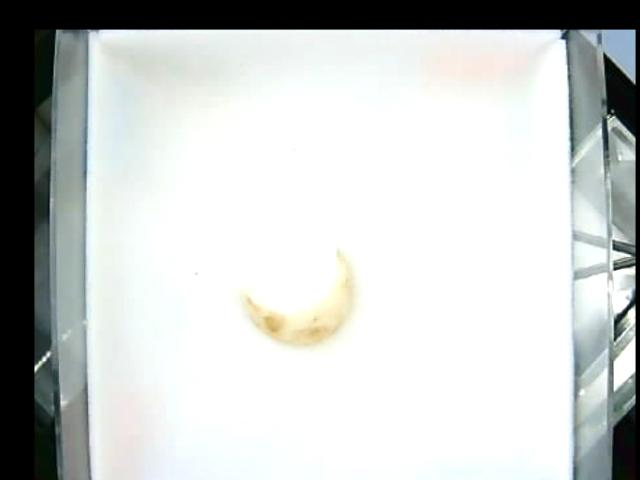Mooli: (242, 240, 352, 344)
